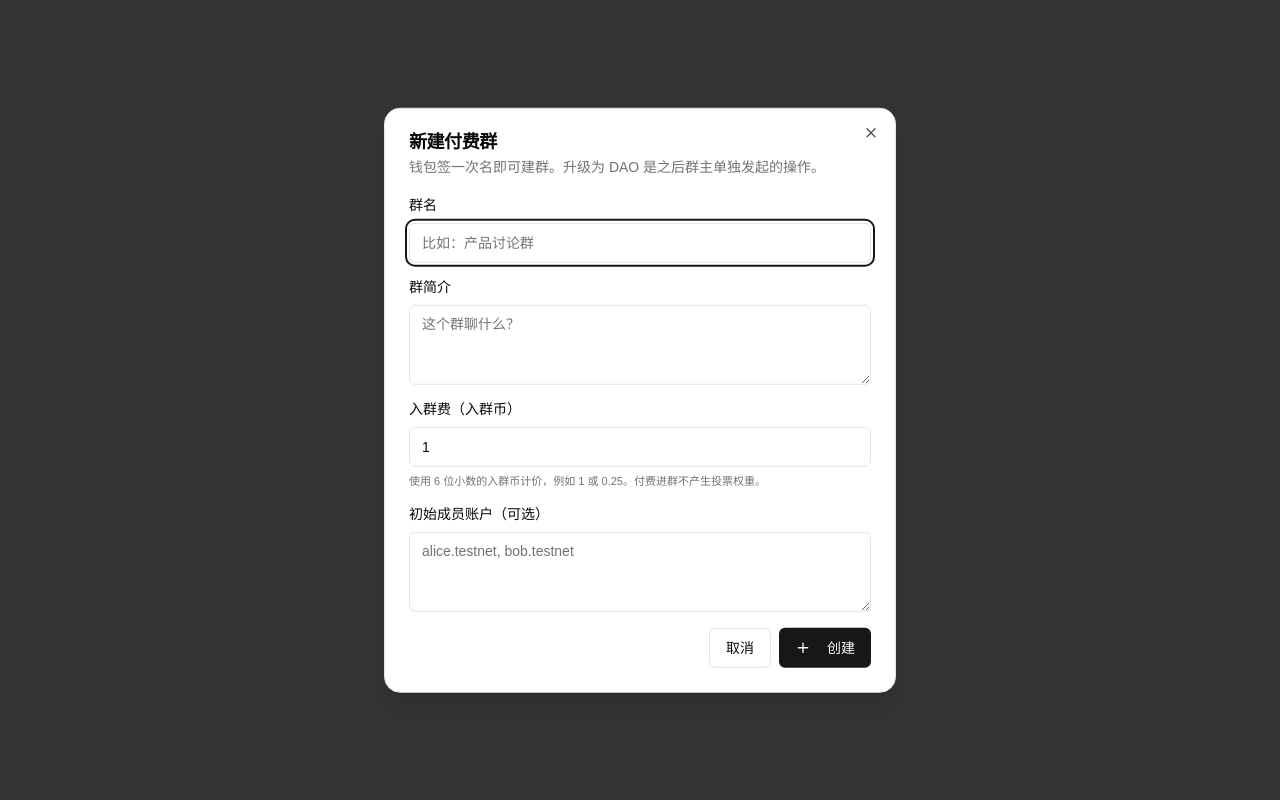
Test: create group flow › blocks an empty group name before opening the wallet
Click the button "创建": x=825, y=647 [779,627,871,667]
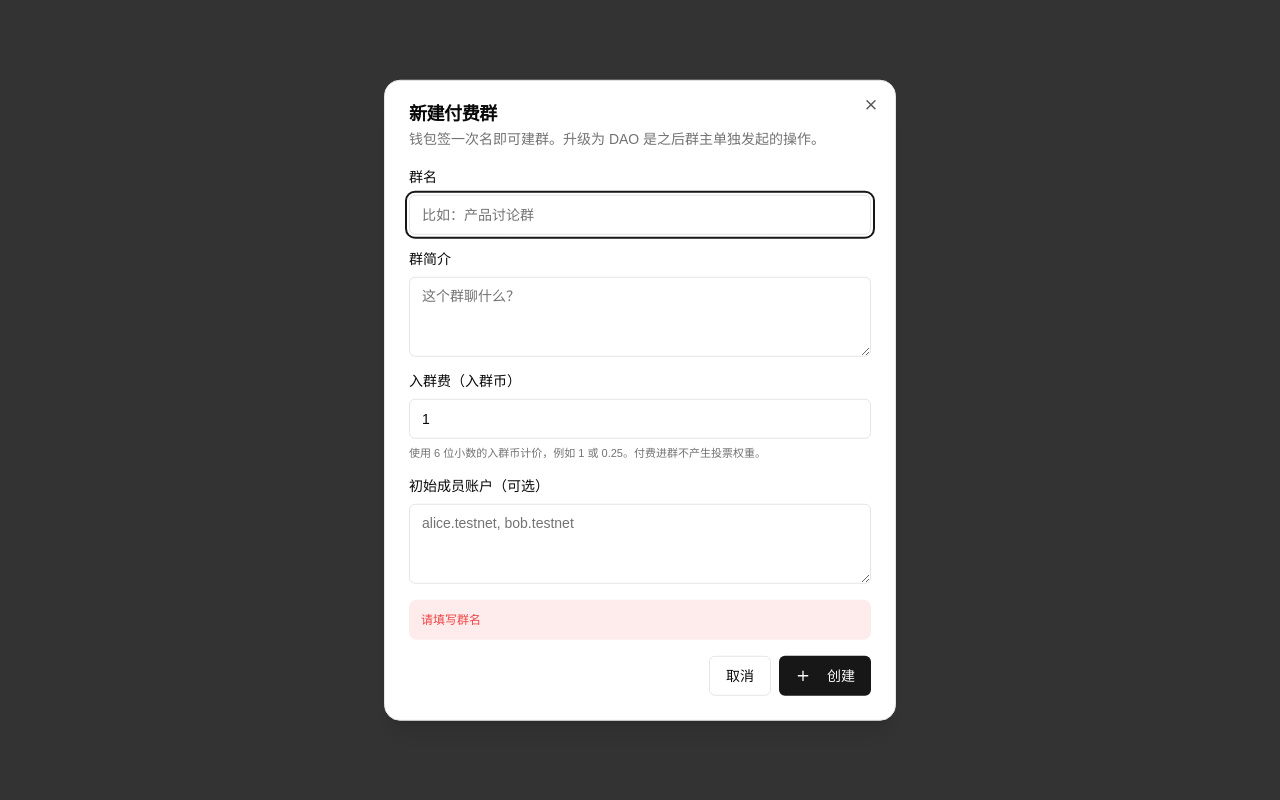
Check: the text "请填写群名" is shown, box [409,599,871,639]
